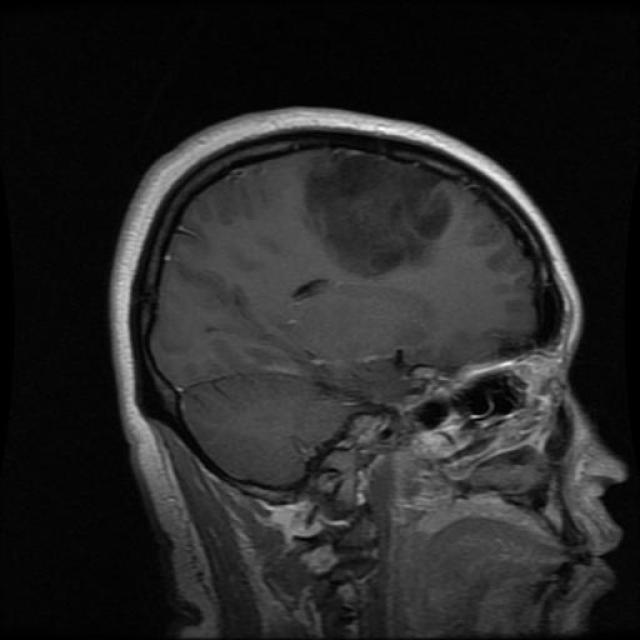glioma: (303, 131, 447, 267)
